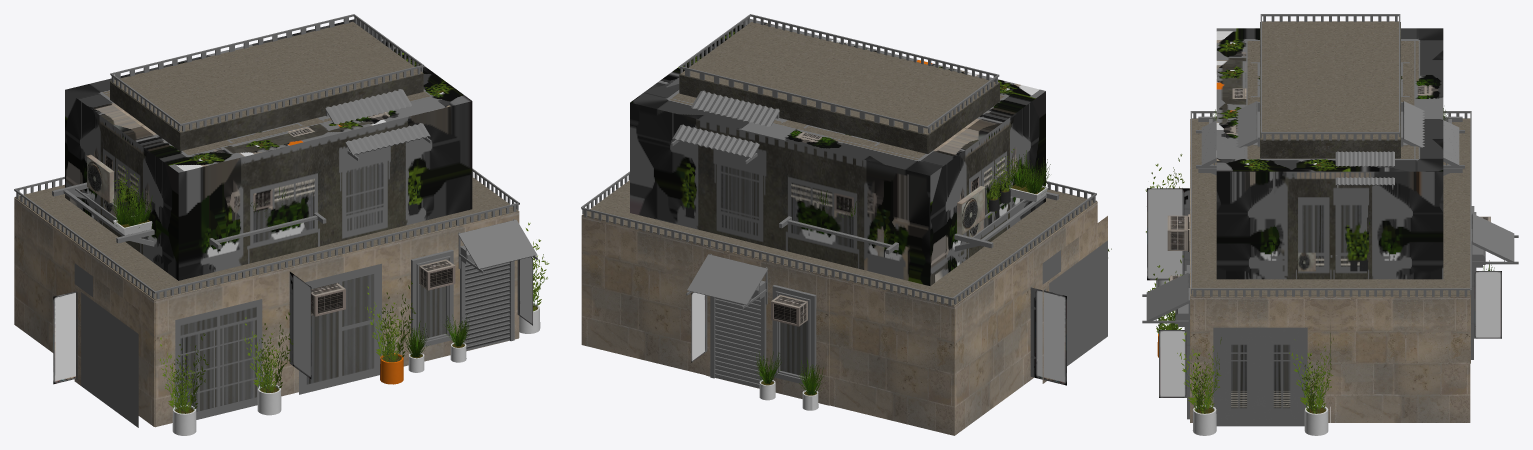
The model's file is nc_building_06.fbx.
3 renders of one model, left to right at view 1: azimuth 30°, elevation 25°; view 2: azimuth 150°, elevation 25°; view 3: azimuth 270°, elevation 25°, orthographic. The views are drawn at different scales.
Parts seen in each view (by area): view 1: nc_building_06_LOD0; view 2: nc_building_06_LOD0; view 3: nc_building_06_LOD0.
Boxes of the visible parts, x1,y1,x2,y2 form: nc_building_06_LOD0: [14, 14, 549, 435]; nc_building_06_LOD0: [581, 14, 1111, 435]; nc_building_06_LOD0: [1142, 14, 1518, 435].
Size of what is drawn, in the model's own units: 7.25 by 4.13 by 5.4.
